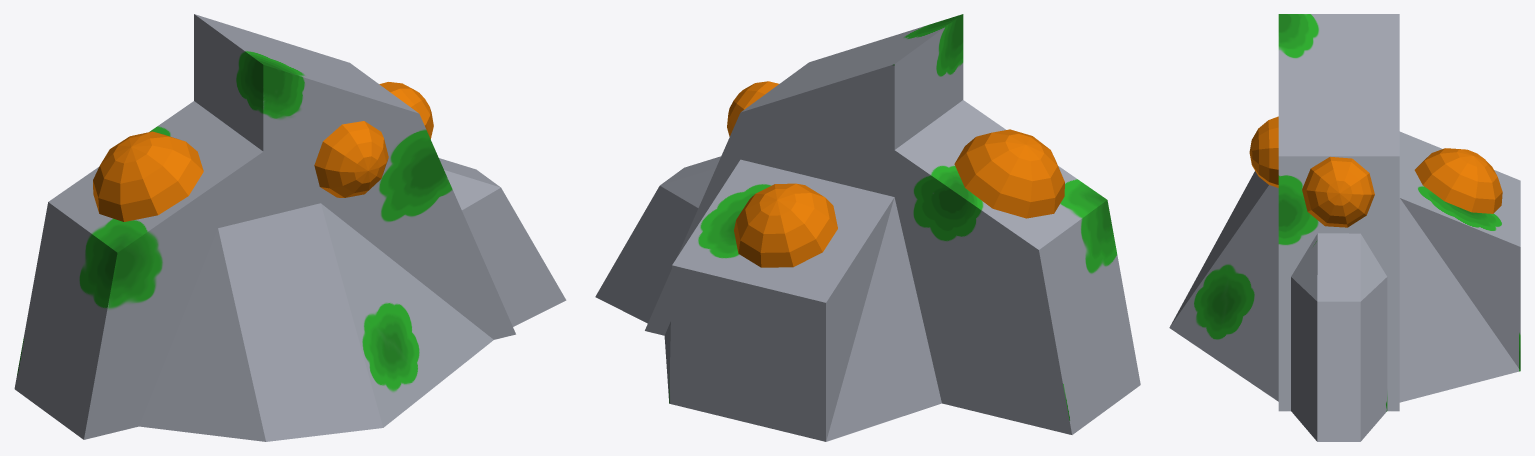
The model's file is AmbarMusgoTipo2.fbx.
The picture shows the model from 3 angles, left to right: view 1: azimuth 30°, elevation 25°; view 2: azimuth 150°, elevation 25°; view 3: azimuth 270°, elevation 25°; orthographic projection. The views are drawn at different scales.
Visible parts, largest first — view 1: base.043, ambar.013, ambar.014, ambar.015; view 2: base.043, ambar.013, ambar.016, ambar.015; view 3: base.043, ambar.016, ambar.015, ambar.014.
Part boxes in pixels (x1,y1,x2,y2): base.043: [14, 14, 566, 441]; ambar.013: [93, 131, 203, 221]; ambar.014: [314, 121, 388, 197]; ambar.015: [379, 82, 433, 138]; base.043: [595, 14, 1140, 441]; ambar.013: [954, 129, 1064, 218]; ambar.016: [734, 183, 837, 267]; ambar.015: [727, 81, 778, 136]; base.043: [1169, 14, 1520, 441]; ambar.016: [1414, 148, 1502, 213]; ambar.015: [1302, 156, 1374, 227]; ambar.014: [1249, 116, 1278, 187].
Bounding box in the file's own units: 140 × 87.89 × 96.69.
